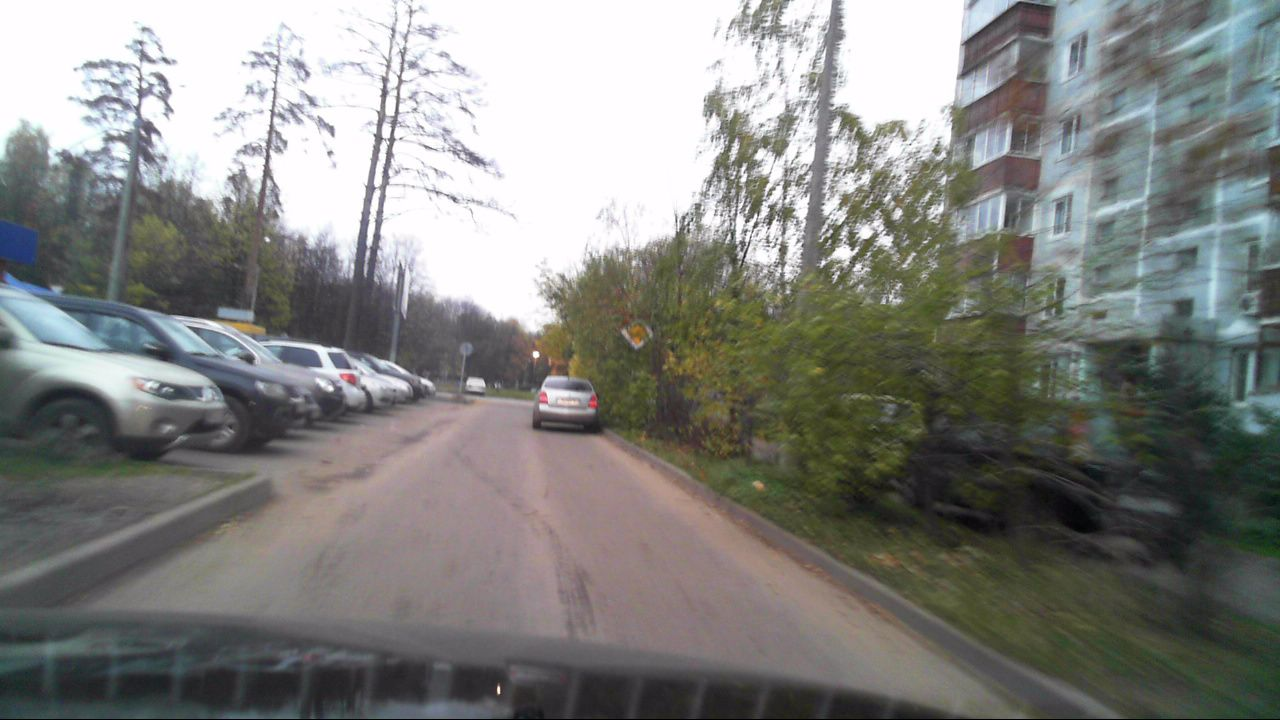main road: (619, 318, 653, 349)
